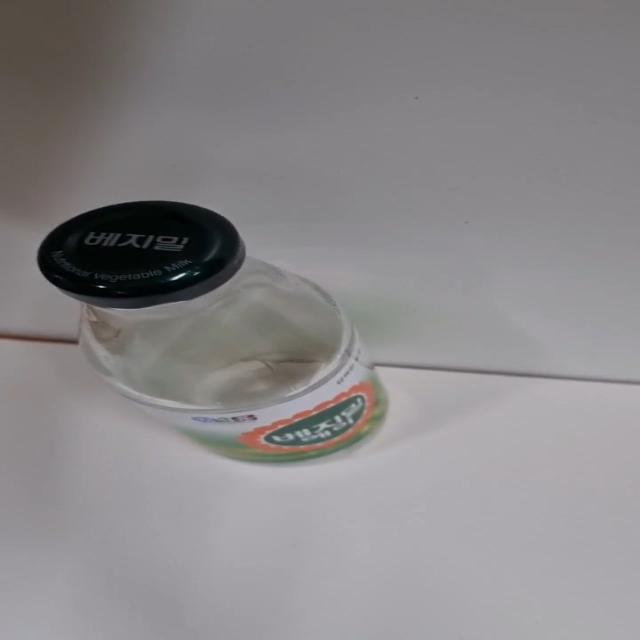Glass: (31, 198, 395, 468)
